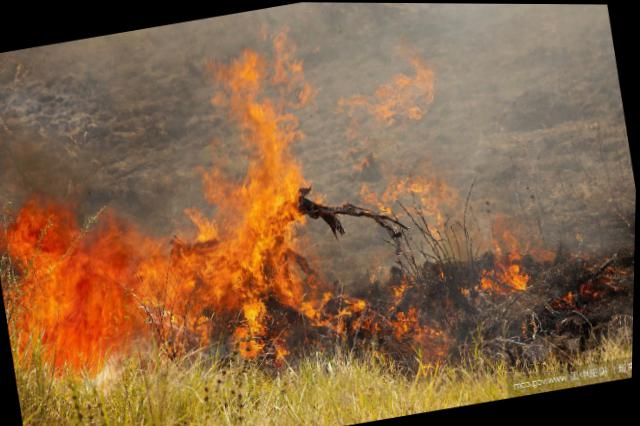fire: (22, 224, 146, 380), (209, 172, 312, 309), (129, 240, 231, 329), (238, 102, 308, 206), (0, 194, 87, 277), (362, 63, 442, 125), (221, 47, 270, 113), (237, 326, 264, 363), (193, 208, 220, 245), (395, 306, 425, 335), (501, 262, 530, 290), (247, 303, 271, 335), (300, 298, 322, 320), (482, 273, 503, 292), (348, 298, 369, 314)
